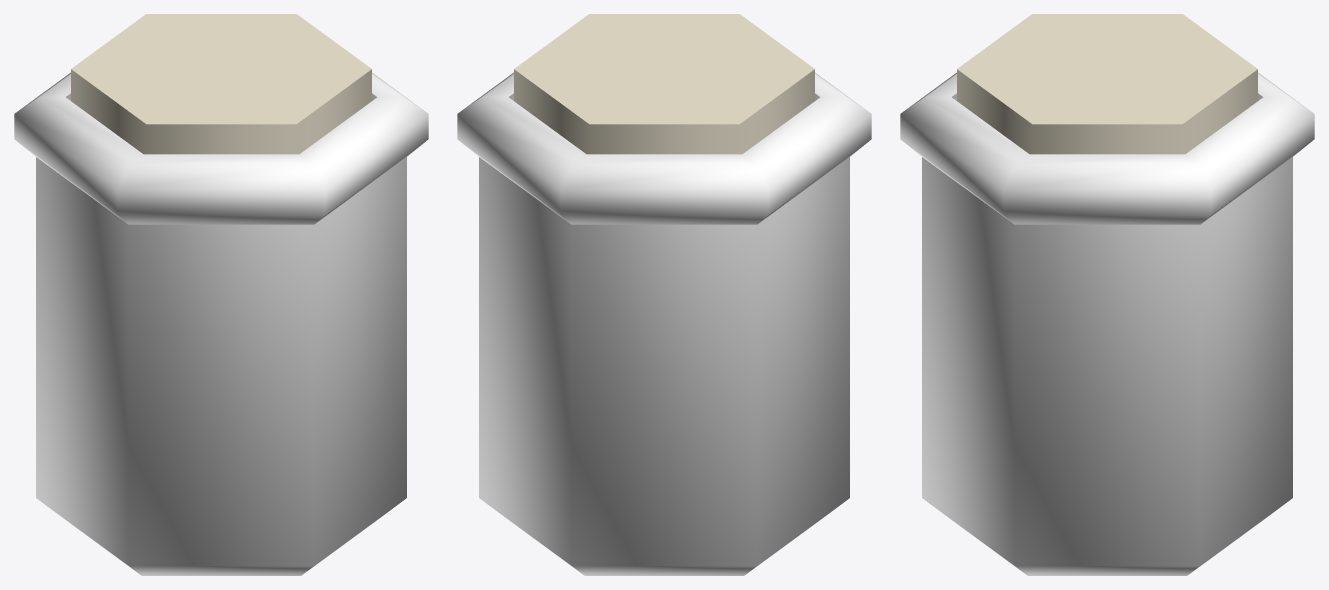
Rendered from Vial_6.fbx.
3 views of the same model, side by side, from view 1: azimuth 30°, elevation 25°; view 2: azimuth 150°, elevation 25°; view 3: azimuth 270°, elevation 25° (orthographic).
Parts seen in each view (by area): view 1: ManaJar; view 2: ManaJar; view 3: ManaJar.
Part boxes in pixels (bbox=[...]): ManaJar: bbox=[14, 14, 428, 575]; ManaJar: bbox=[457, 14, 871, 575]; ManaJar: bbox=[900, 14, 1314, 575].
Bounding box in the file's own units: 9.1 × 12.55 × 10.51.
